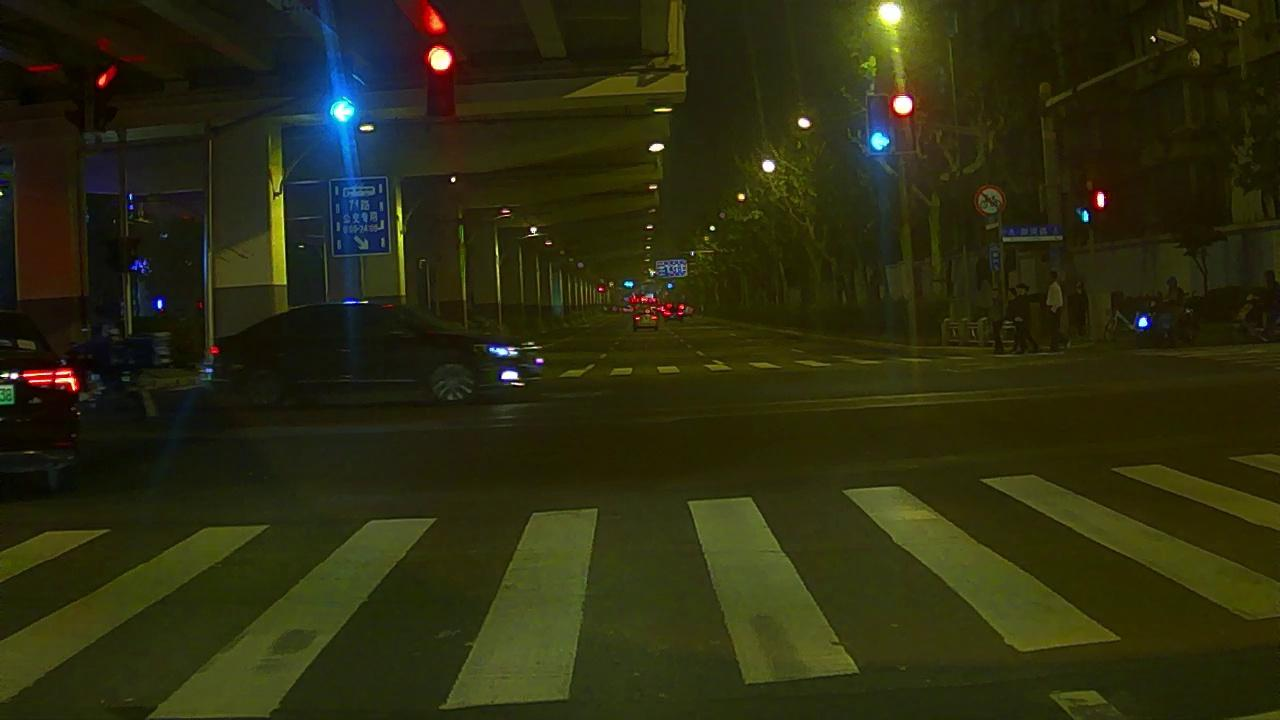traffic_light: (430, 46, 453, 112), (889, 95, 912, 155), (866, 98, 887, 153), (333, 98, 355, 123)
